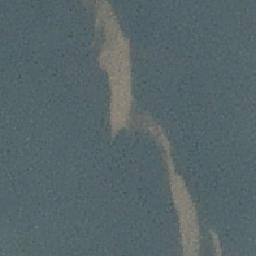debris: (100, 39, 130, 65), (96, 5, 115, 38), (177, 204, 198, 233), (111, 84, 132, 111), (168, 175, 187, 203), (109, 112, 132, 132), (149, 121, 167, 146), (105, 68, 130, 84), (180, 233, 200, 248), (209, 230, 222, 252), (165, 149, 175, 173)
